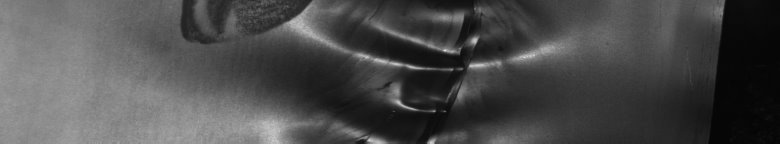ke: (176, 4, 555, 136)
